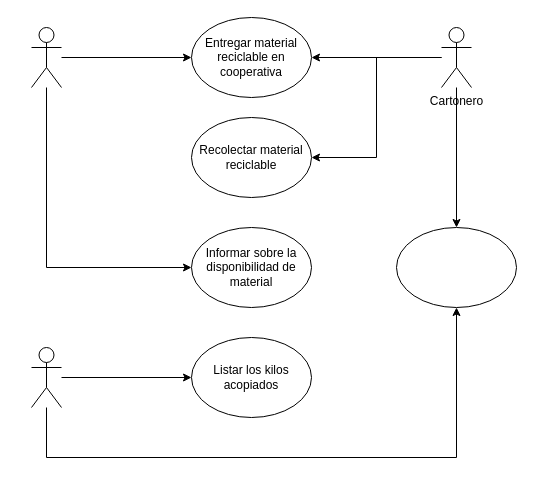
Some shapes in this 534 by 483 pixel diagram are drawn without their labels. Here are the shapes that lost their labels. From the top down, the centre of each, then its label:
(46,57): Ciudadano
(456,267): Registrar o editar informacion
(46,377): Secretaria
